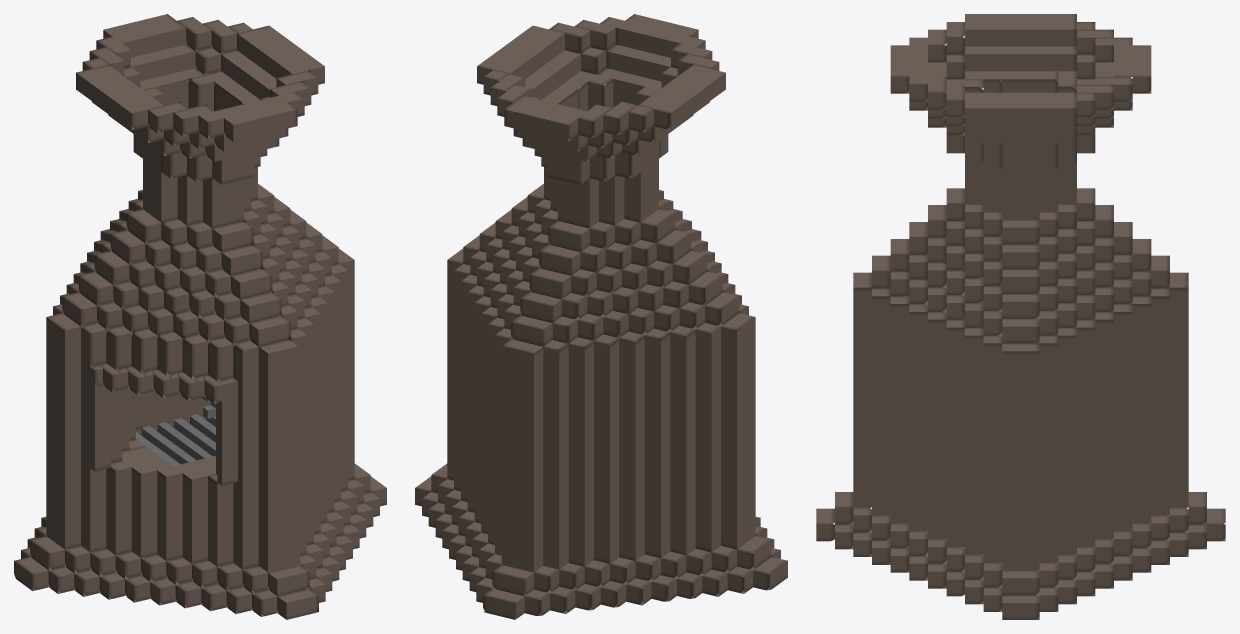
The model's file is Smelter 1.obj.
3 views of the same model, side by side, from view 1: azimuth 30°, elevation 25°; view 2: azimuth 150°, elevation 25°; view 3: azimuth 270°, elevation 25° (orthographic).
Parts seen in each view (by area): view 1: Model; view 2: Model; view 3: Model.
Part boxes in pixels (bbox=[...]): Model: bbox=[14, 14, 386, 619]; Model: bbox=[415, 14, 787, 619]; Model: bbox=[816, 14, 1225, 619].
Size of the model in its own units: 22 by 28 by 22.
Materials: 1 (1 with a texture image).
